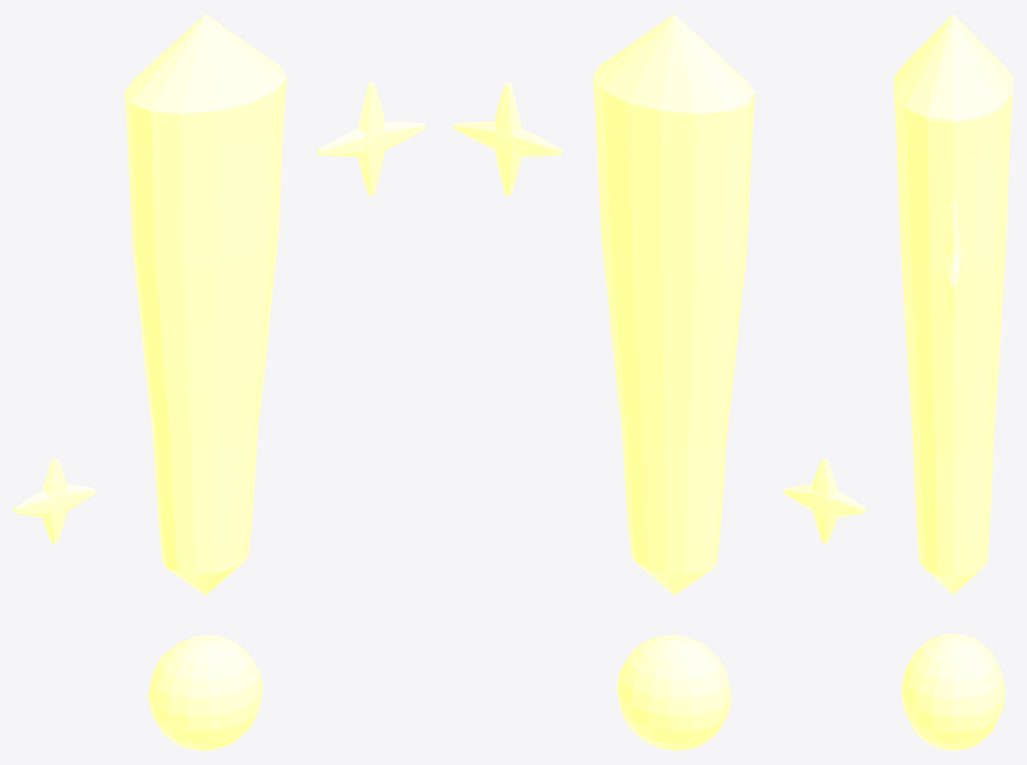
The model's file is Indicador.glb.
3 views of the same model, side by side, from view 1: azimuth 30°, elevation 25°; view 2: azimuth 150°, elevation 25°; view 3: azimuth 270°, elevation 25° (orthographic).
Parts seen in each view (by area): view 1: Indicador; view 2: Indicador; view 3: Indicador.
Part boxes in pixels (<box>): Indicador: <box>14,14,425,750</box>; Indicador: <box>454,14,865,750</box>; Indicador: <box>894,14,1012,750</box>.
Bounding box in the file's own units: 0.2722 × 0.464 × 0.0682.
